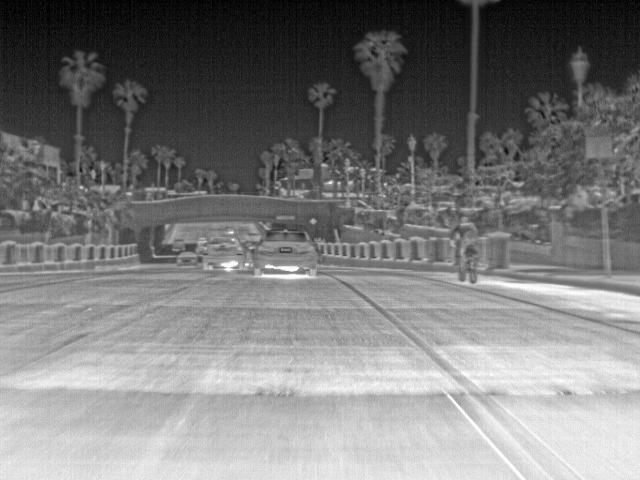car: (253, 227, 318, 276), (202, 240, 245, 273), (176, 250, 198, 268), (172, 239, 188, 254)
person: (452, 214, 478, 273)
